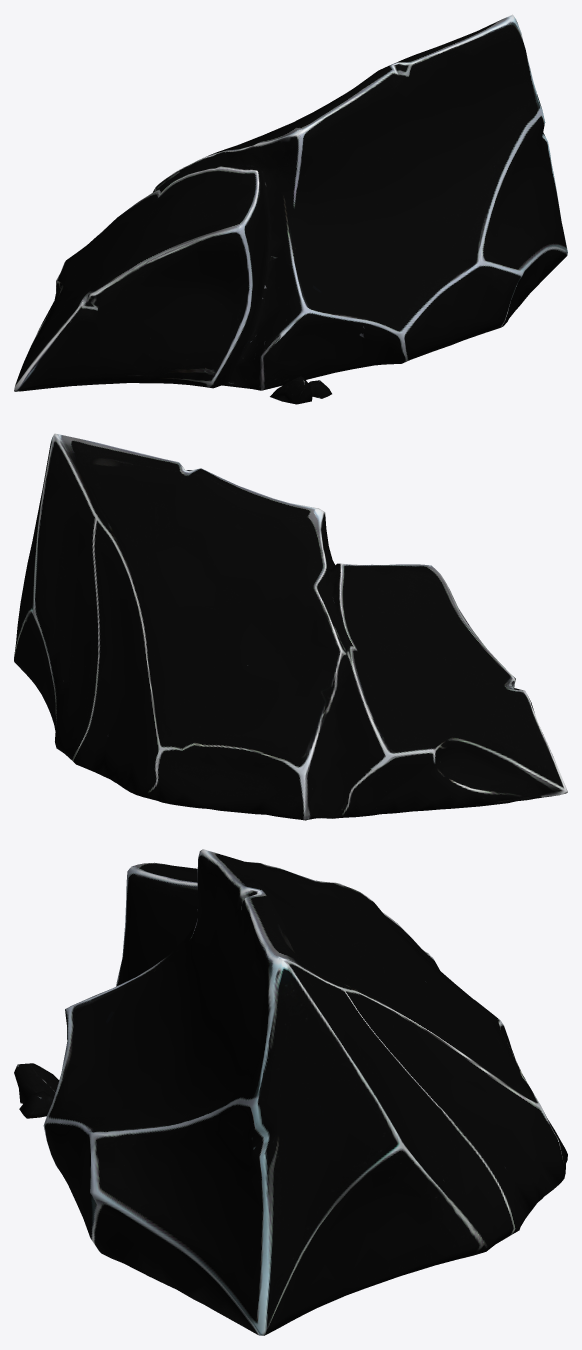
3 views of the same model, one above another, from view 1: azimuth 30°, elevation 25°; view 2: azimuth 150°, elevation 25°; view 3: azimuth 270°, elevation 25° (orthographic). The views are drawn at different scales.
Parts seen in each view (by area): view 1: Mesh_0; view 2: Mesh_0; view 3: Mesh_0.
Boxes of the visible parts, left/top/right/bottom form: Mesh_0: left=14, top=14, right=567, bottom=404; Mesh_0: left=14, top=433, right=567, bottom=820; Mesh_0: left=14, top=849, right=567, bottom=1335.
Bounding box in the file's own units: 1.91 × 0.8094 × 1.18.
1 material, 1 textured.
